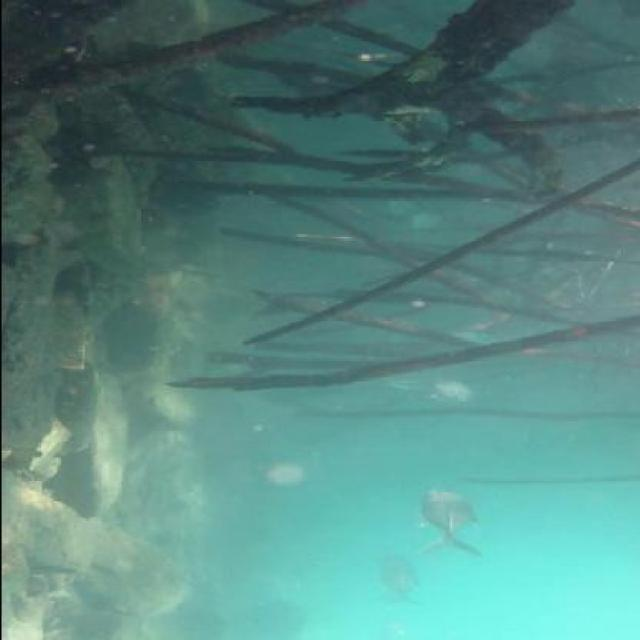Caranx_sexfasciatus_juvenile: (408, 485, 484, 561), (368, 555, 430, 611), (426, 378, 479, 404), (371, 371, 435, 392)
